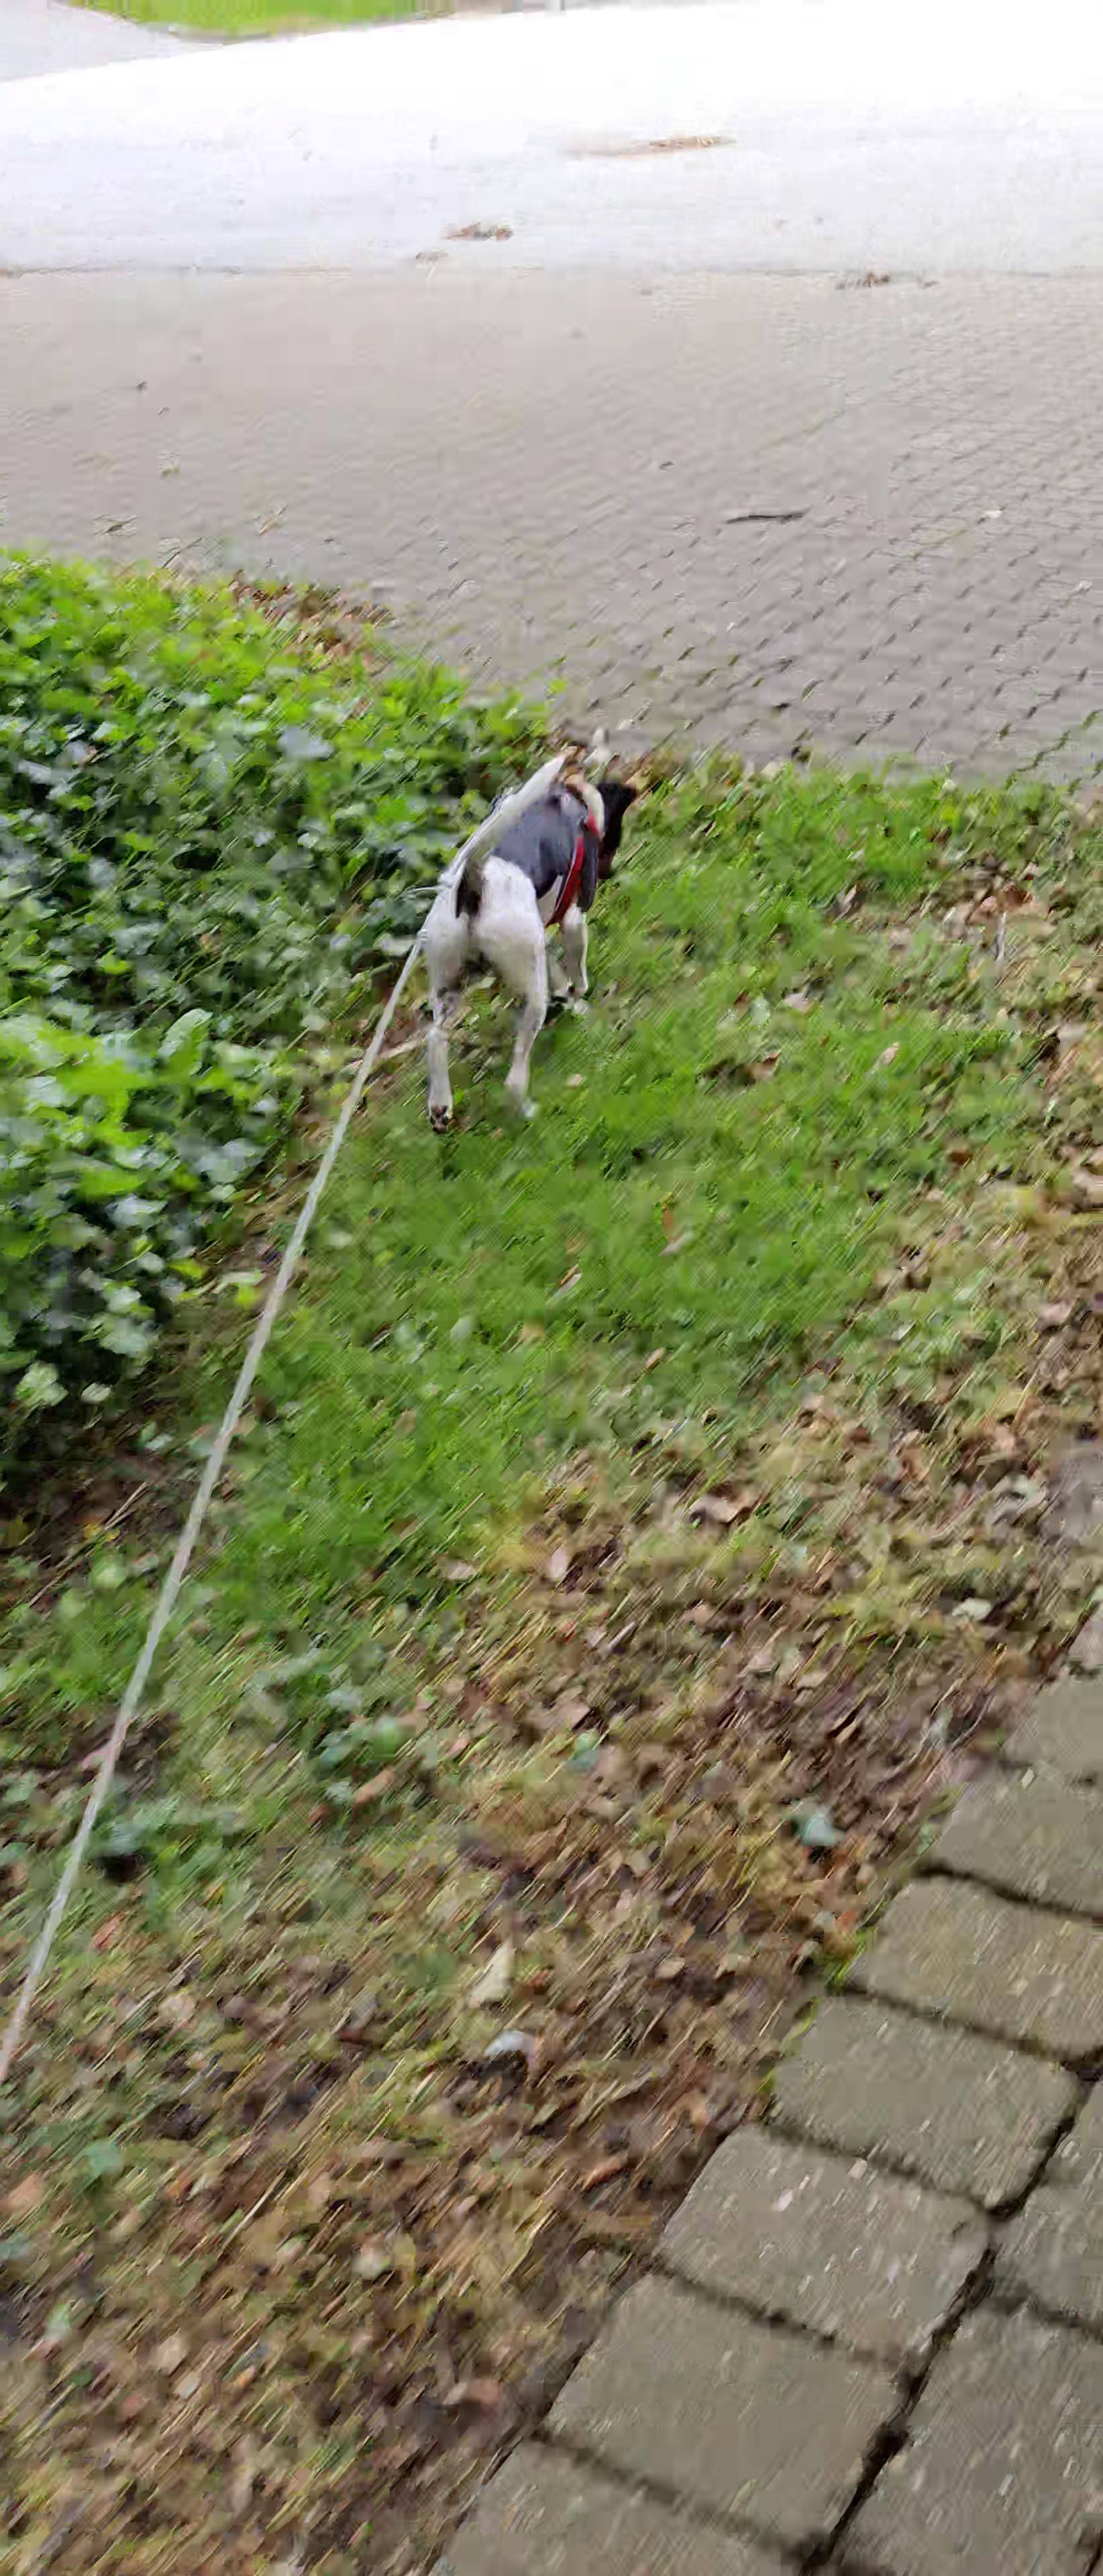Dog: (406, 743, 662, 1160)
